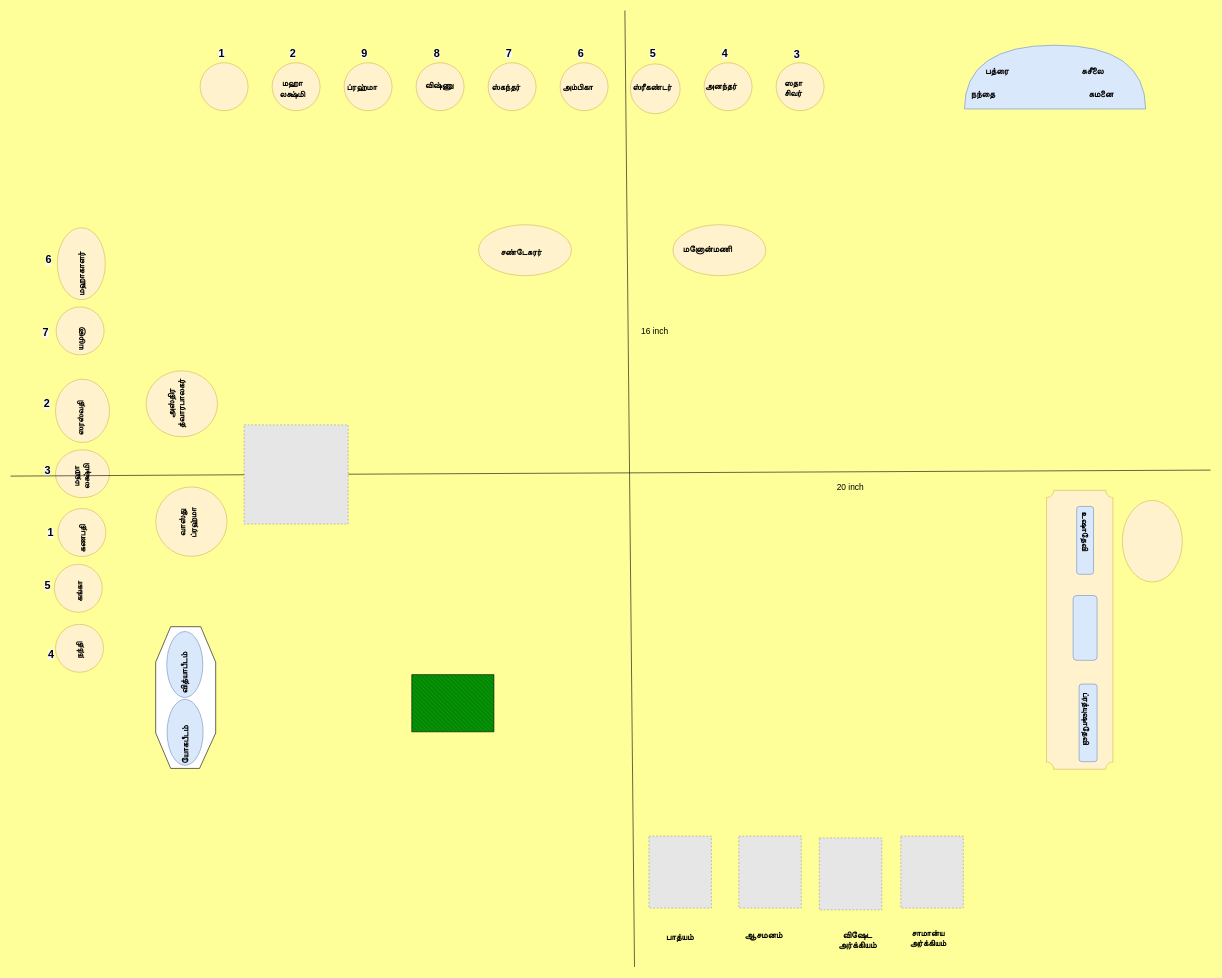
Some shapes in this 1222 by 978 pixel diagram are drawn without their labels. Grey dashed boxes stand in for pictures. The shapes that lost their labels are listed below. From the top down, each one's centre as x and y in pixels, then its label:
point 224,86: மஹா கணபதி
point 1055,77: சுரபி
point 1152,541: தேஜஸ்சண்டர்
point 1084,627: சிவசூரியன்
point 452,703: குருபீடம்
